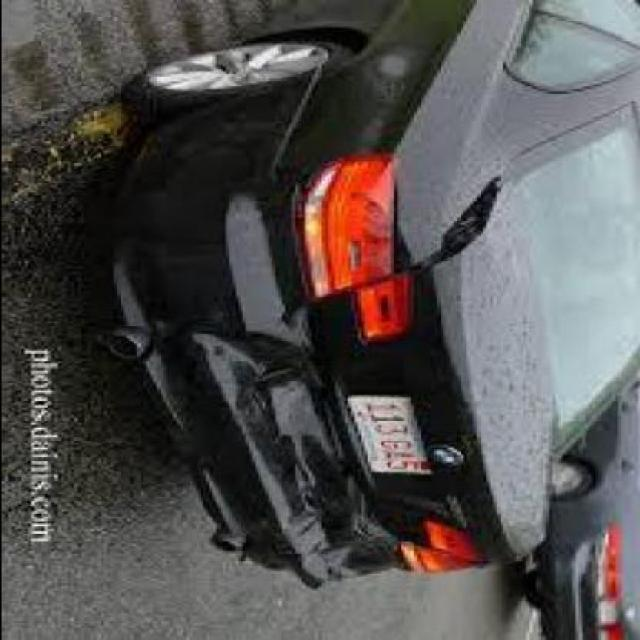damage: (148, 182, 556, 586)
